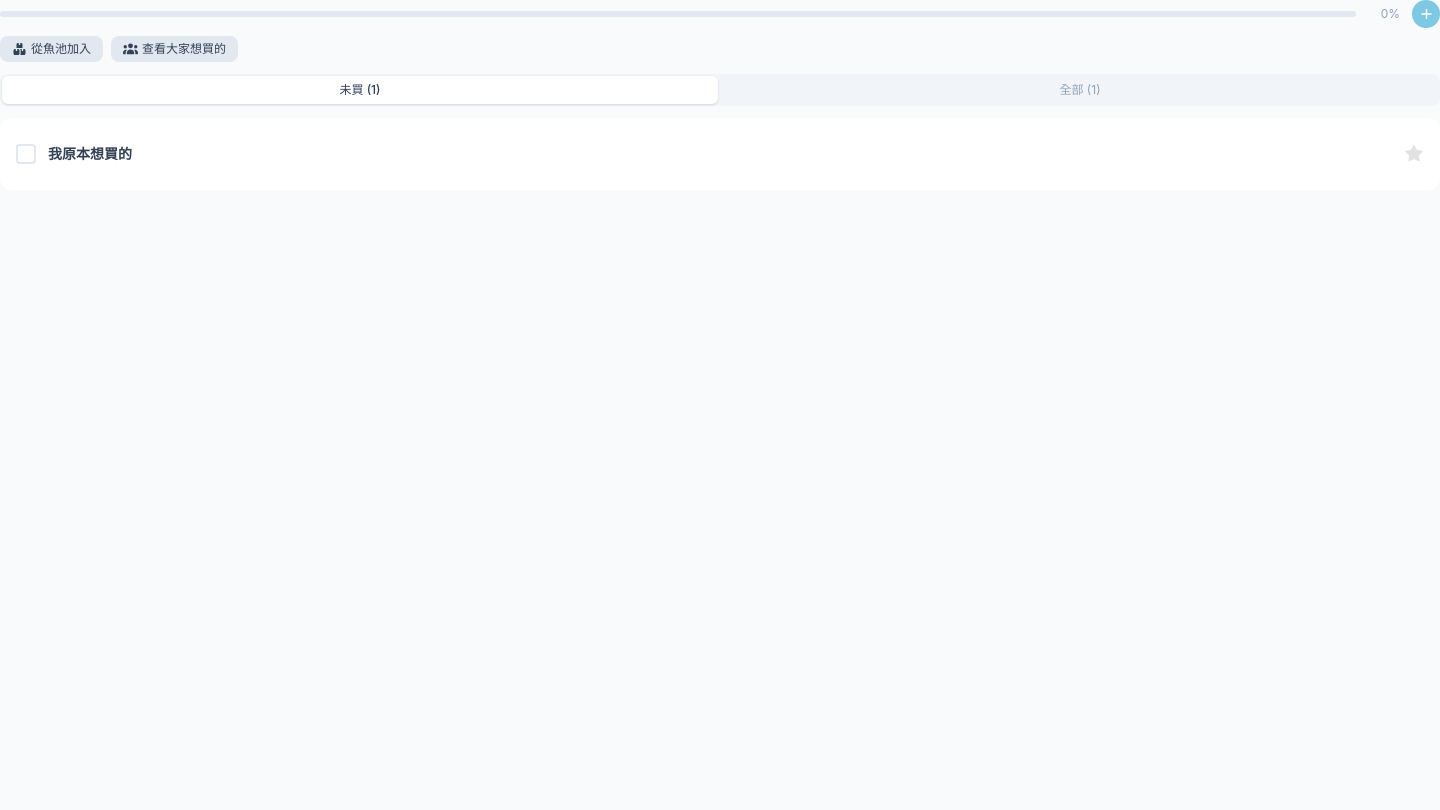
Test case: ShoppingTab › shows 'copied from mine' and hides the button for items copied from my list
Click the button "查看大家想買的": (174, 49) [111, 36, 238, 62]
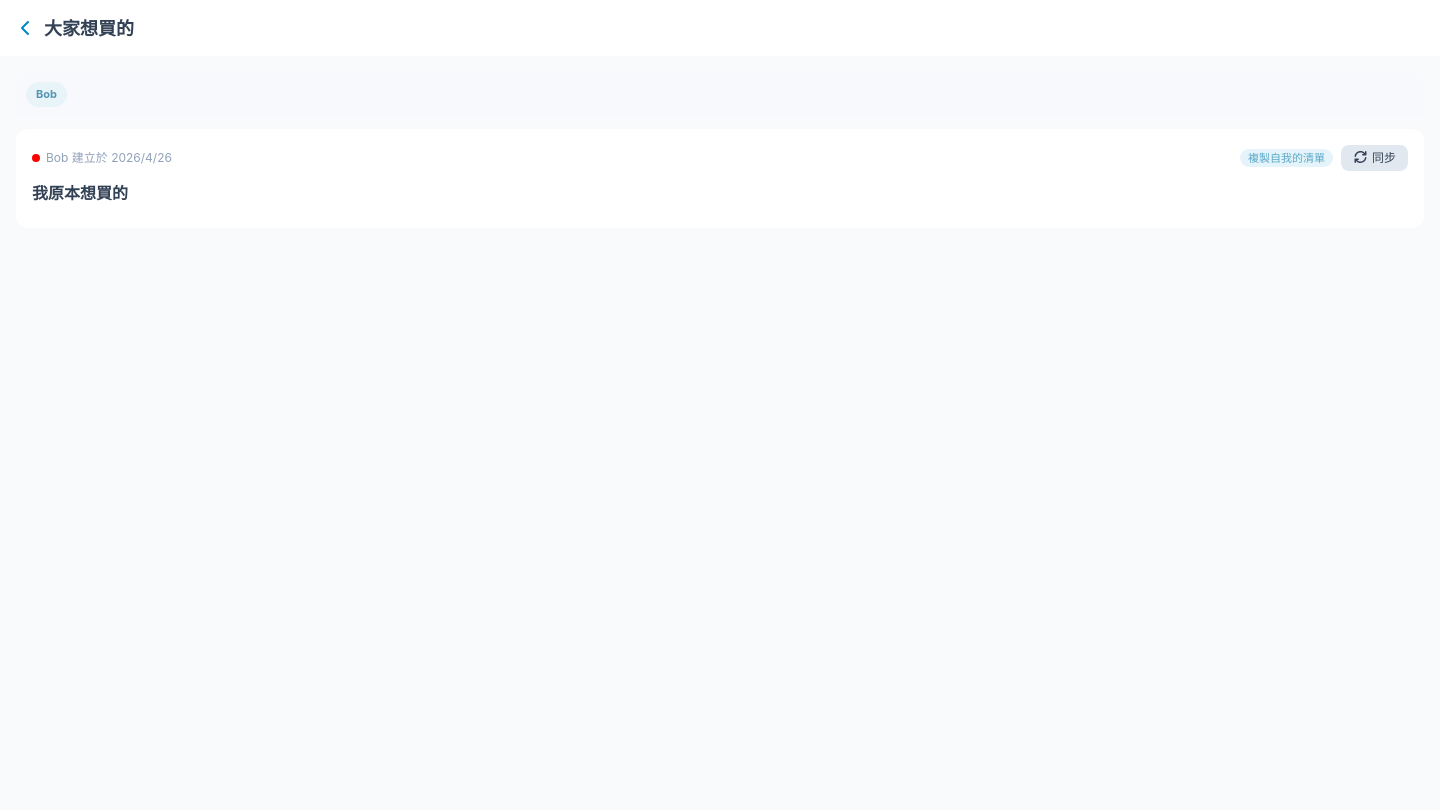
Expected: the text "複製自我的清單" is shown, [1240, 149, 1333, 167]
